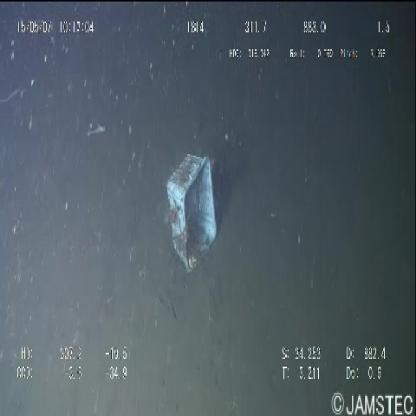Rác: (161, 145, 223, 283)
